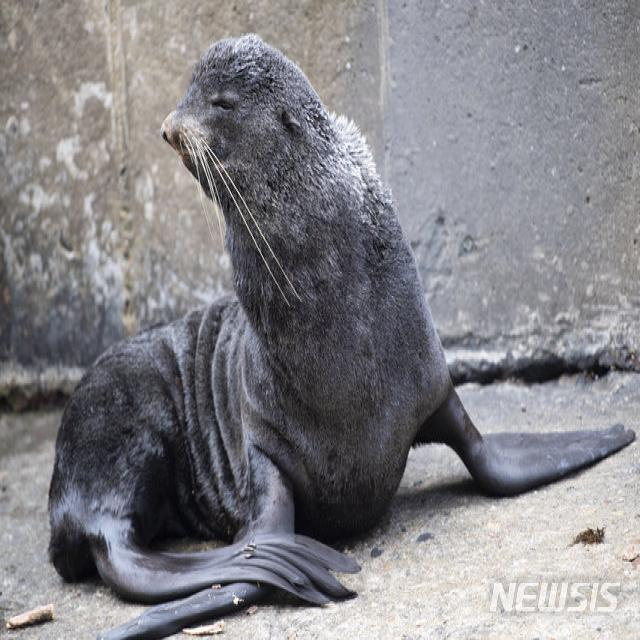WaterDog: (44, 33, 612, 634)
